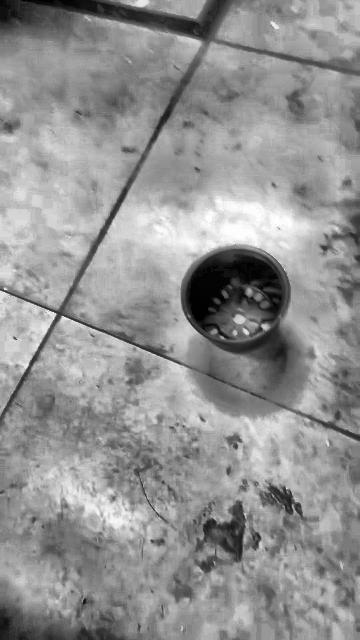pot: (181, 246, 291, 352)
